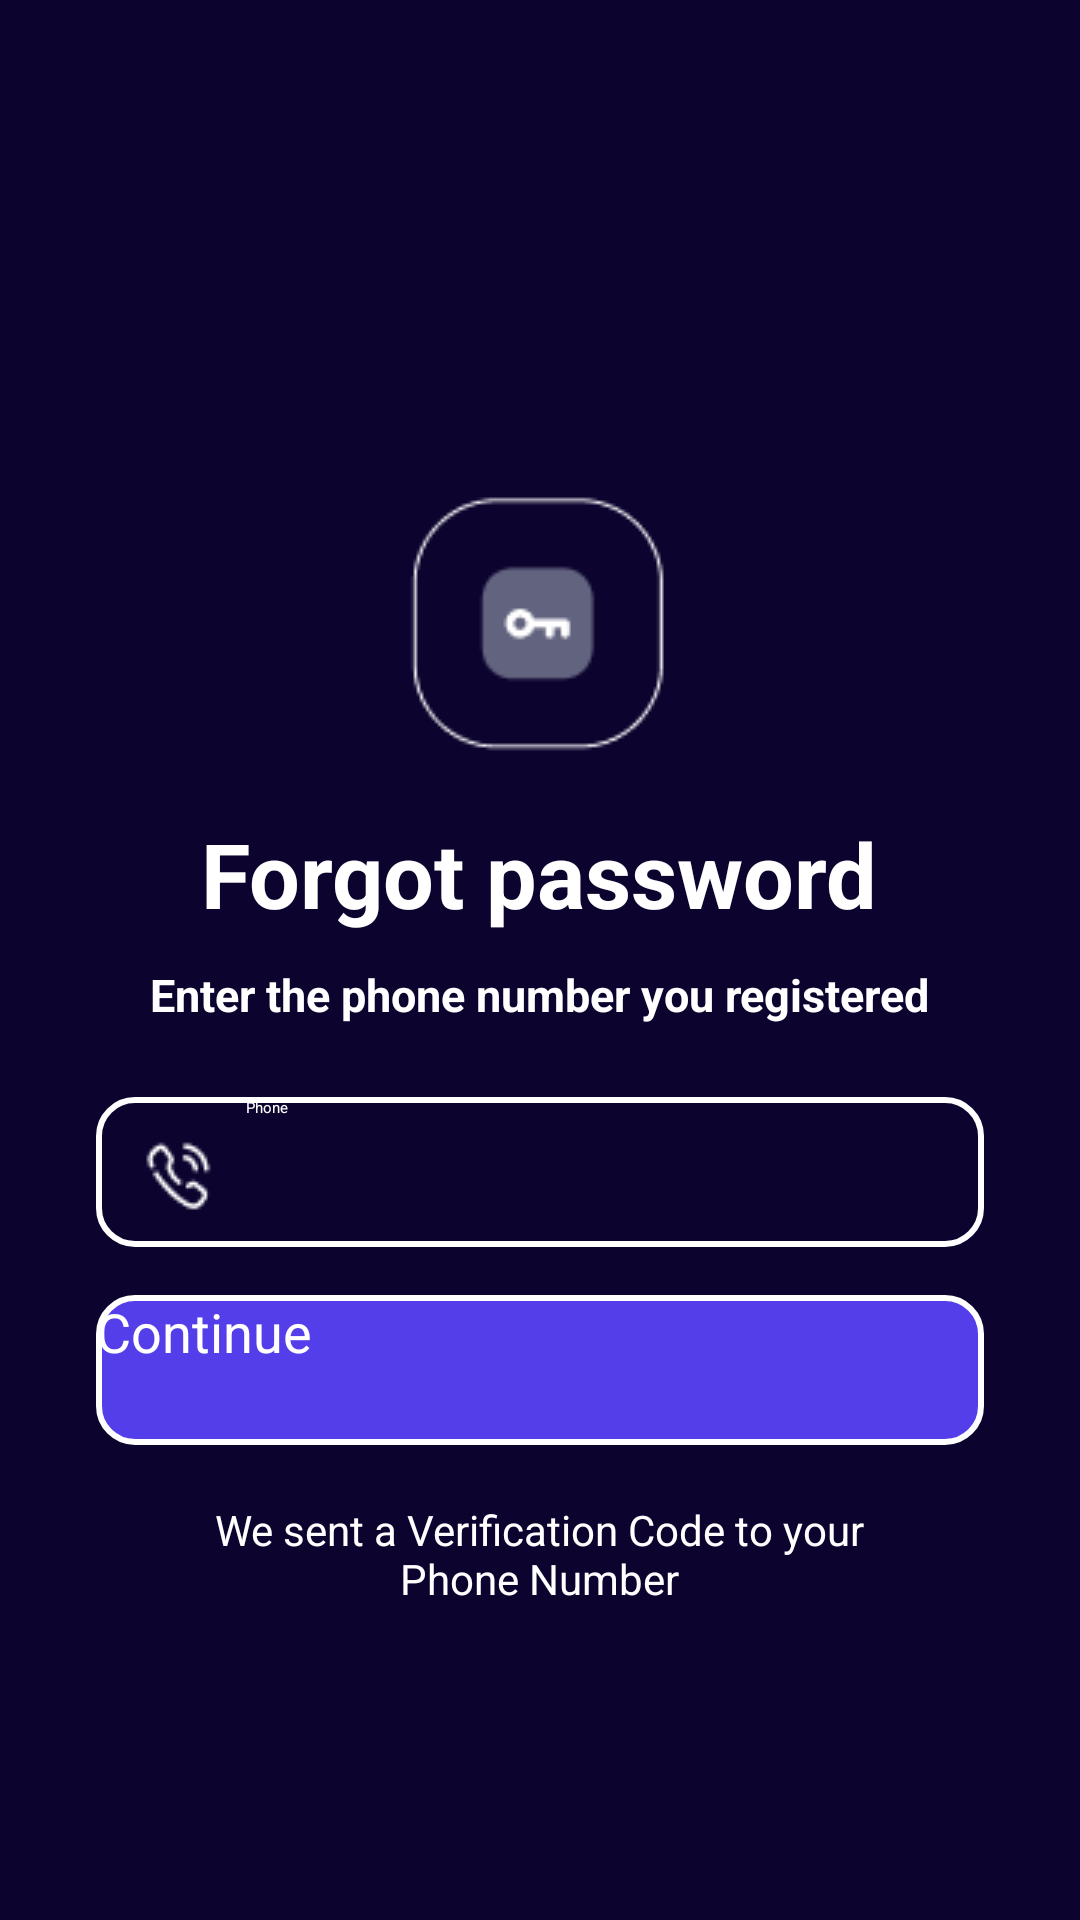

Icon click points for this 1080x1920 phone screenshot, format (x,y):
key: (538,623)
